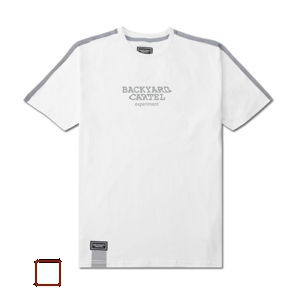square: (33, 258, 63, 288)
